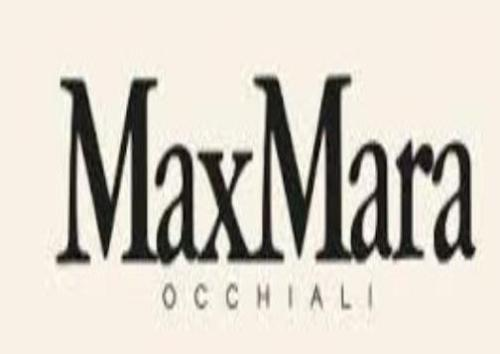MAX-MARA: (59, 71, 475, 264)
